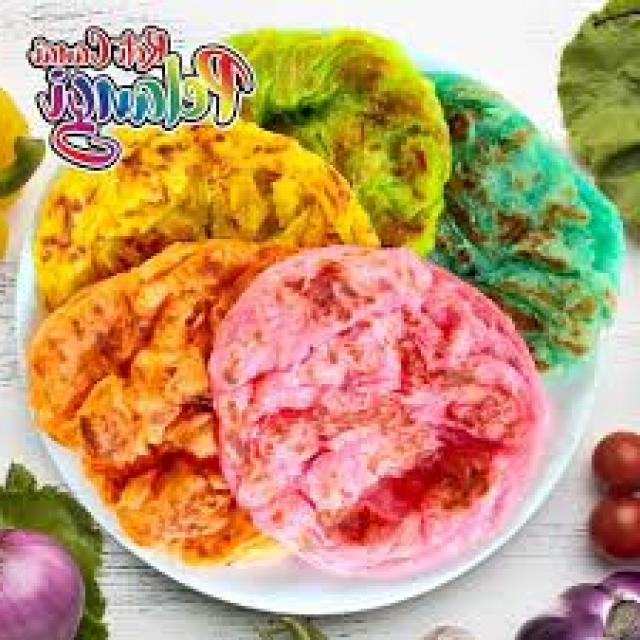Paratha: (222, 258, 512, 568), (56, 102, 338, 313), (410, 56, 613, 345)
